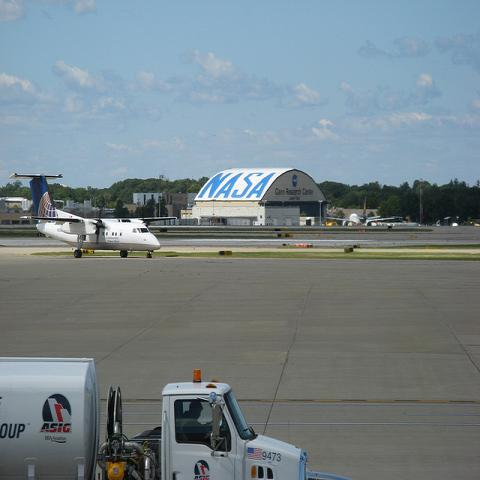truck: (1, 350, 307, 471)
